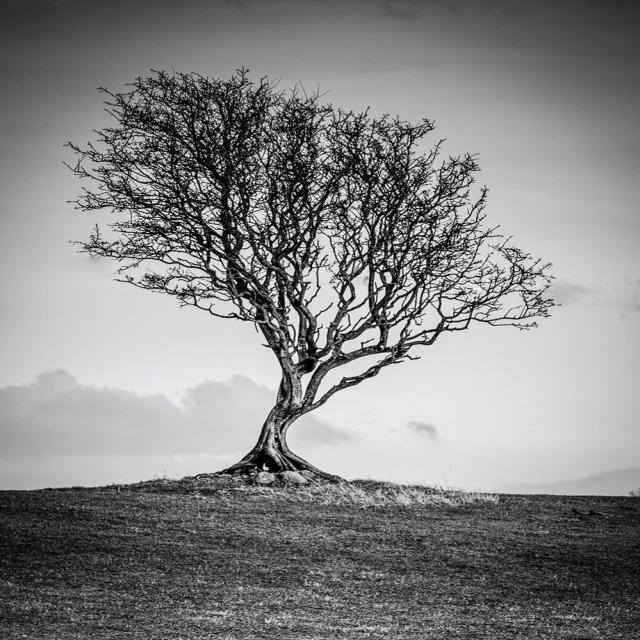tree: (68, 64, 560, 474)
